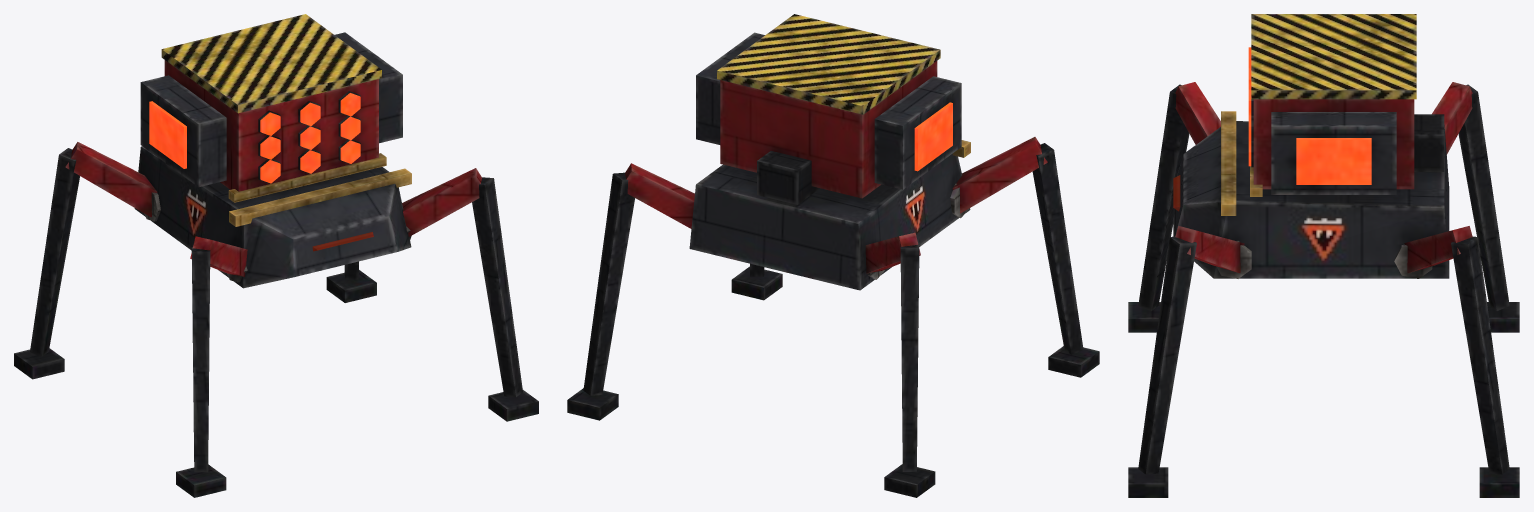
The model's file is u_havoc3_e.glb.
3 views of the same model, side by side, from view 1: azimuth 30°, elevation 25°; view 2: azimuth 150°, elevation 25°; view 3: azimuth 270°, elevation 25° (orthographic). The views are drawn at different scales.
Visible parts, largest first — view 1: u_havoc3_e; view 2: u_havoc3_e; view 3: u_havoc3_e.
Boxes of the visible parts, x1,y1,x2,y2 form: u_havoc3_e: [14, 14, 538, 497]; u_havoc3_e: [567, 14, 1099, 497]; u_havoc3_e: [1128, 14, 1519, 497].
Bounding box in the file's own units: 2.09 × 1.9 × 1.9.
1 material, 1 textured.
